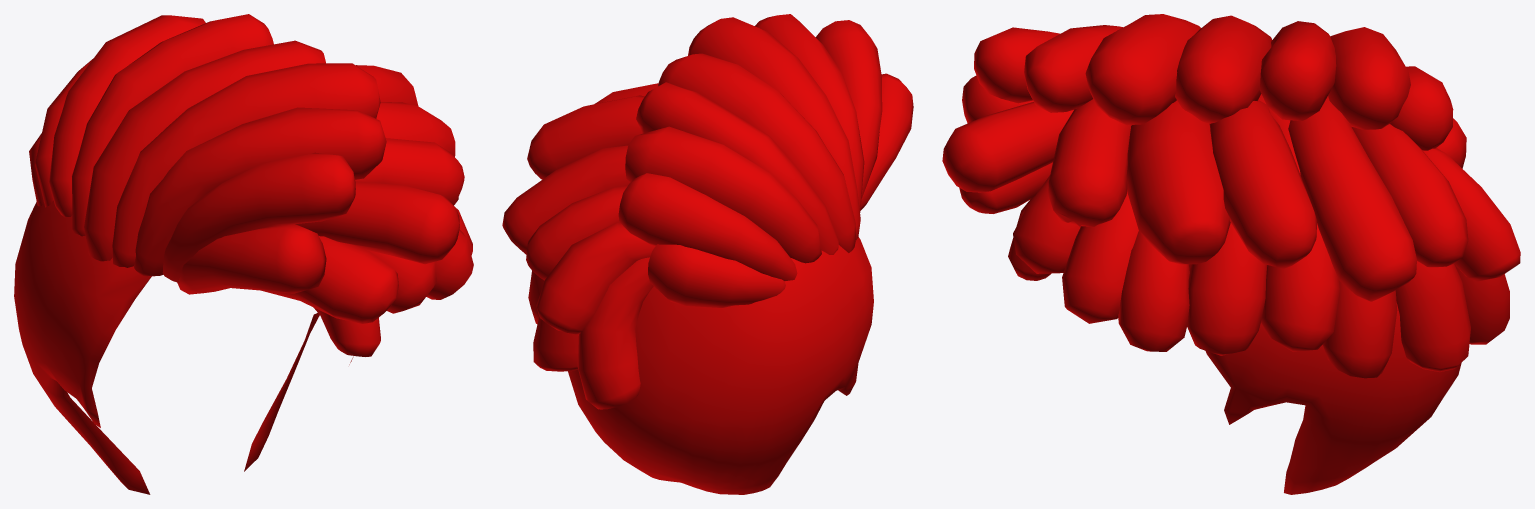
File: HairBack_SweaptDreads.glb
3 views of the same model, side by side, from view 1: azimuth 30°, elevation 25°; view 2: azimuth 150°, elevation 25°; view 3: azimuth 270°, elevation 25° (orthographic). The views are drawn at different scales.
Visible parts, largest first — view 1: HairBack_SweaptDreads; view 2: HairBack_SweaptDreads; view 3: HairBack_SweaptDreads.
Boxes of the visible parts, bbox=[...] form: HairBack_SweaptDreads: bbox=[14, 14, 473, 494]; HairBack_SweaptDreads: bbox=[502, 14, 913, 494]; HairBack_SweaptDreads: bbox=[942, 14, 1520, 494].
Bounding box in the file's own units: 0.2522 × 0.2983 × 0.3397.
